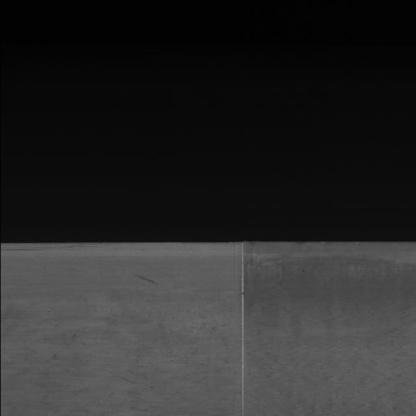welding_line: (223, 230, 258, 416)
